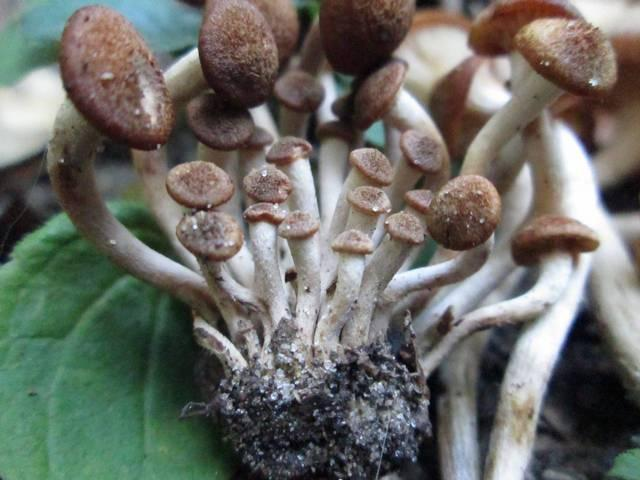Edible Mushroom: (45, 0, 635, 479)
